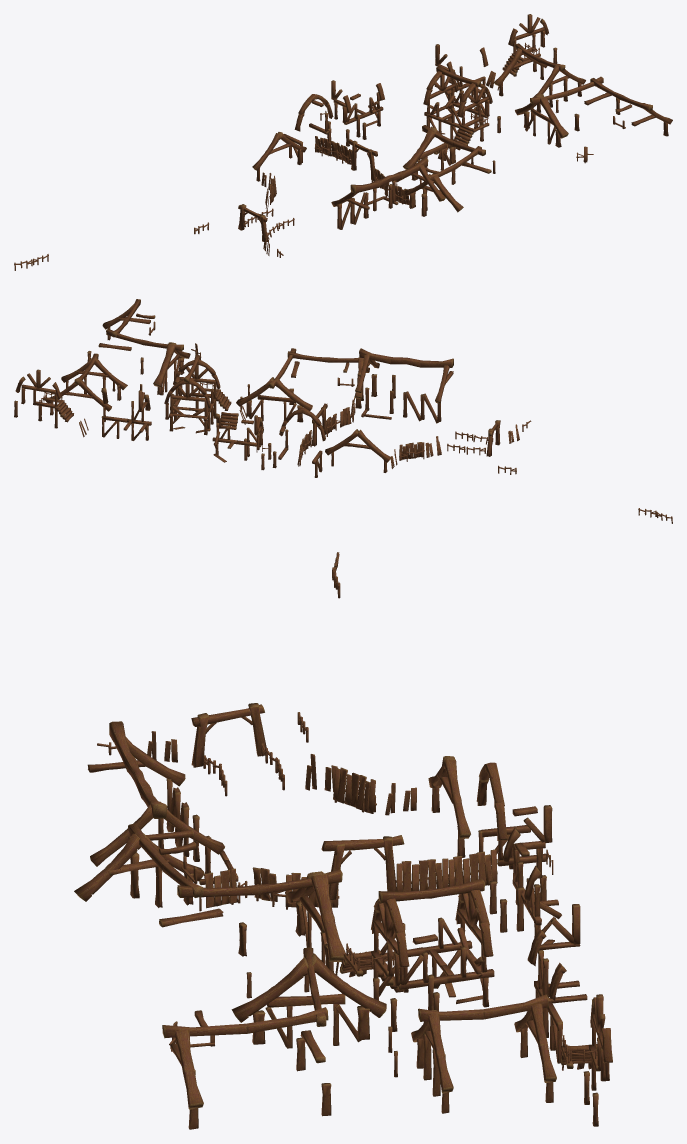
Rendered from WoodBlock3.FBX.
The picture shows the model from 3 angles, top to bottom: view 1: azimuth 30°, elevation 25°; view 2: azimuth 150°, elevation 25°; view 3: azimuth 270°, elevation 25°; orthographic projection. The views are drawn at different scales.
Parts seen in each view (by area): view 1: Object3864; view 2: Object3864; view 3: Object3864.
Boxes of the visible parts, left/top/right/bottom form: Object3864: left=14, top=14, right=672, bottom=270; Object3864: left=14, top=299, right=672, bottom=523; Object3864: left=74, top=552, right=612, bottom=1129.
Size of the model in its own units: 325 by 33.16 by 125.
